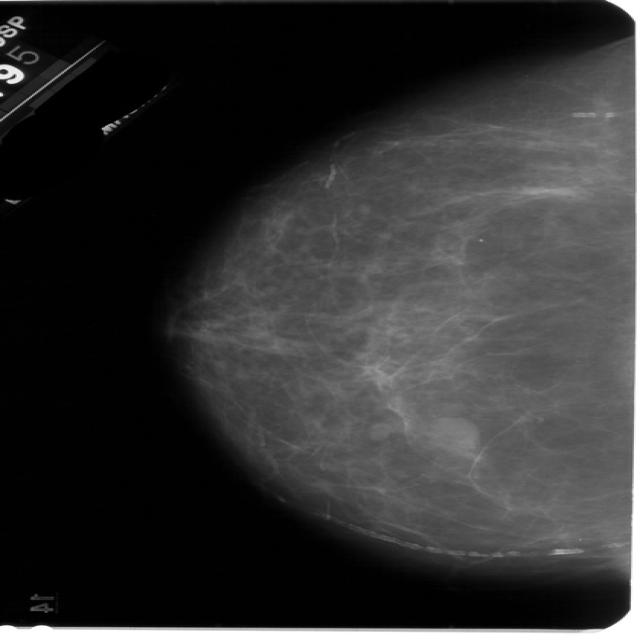tumour: (424, 415, 478, 452)
